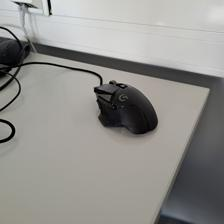mouse: (92, 78, 158, 135)
